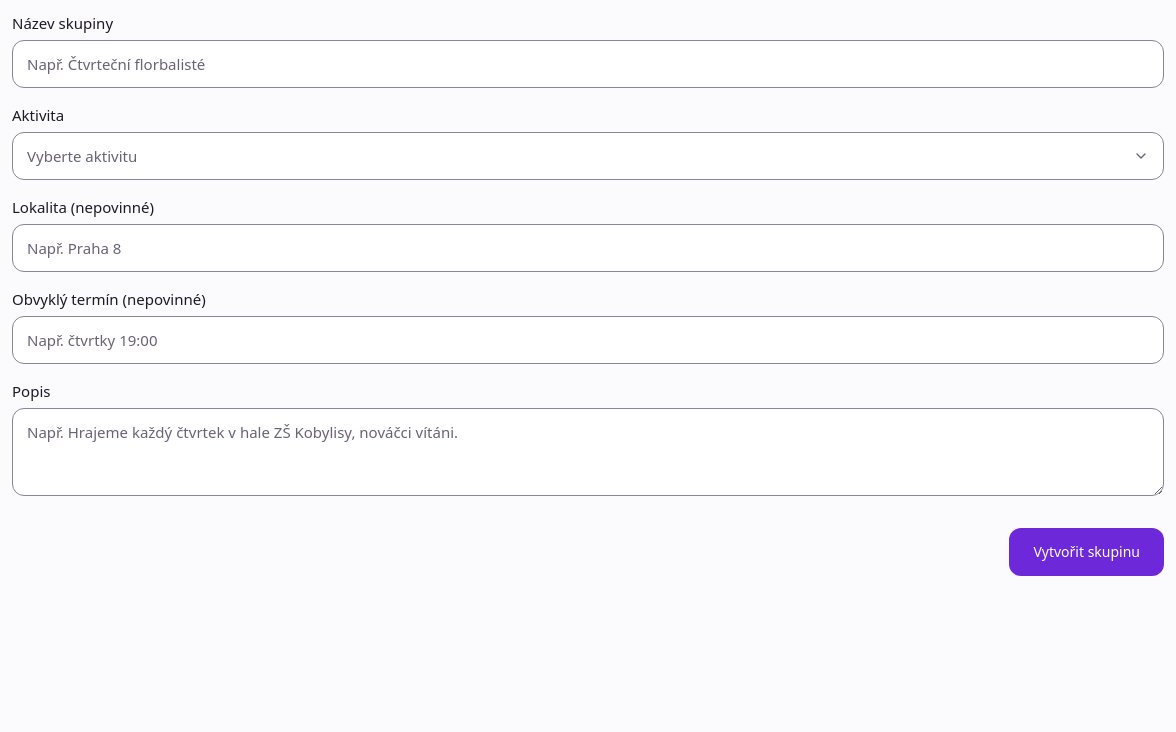
Test: GroupForm › tells which required fields are missing
Click the button "Vytvořit skupinu" at (1087,552), box 1009,528 -> 1164,576
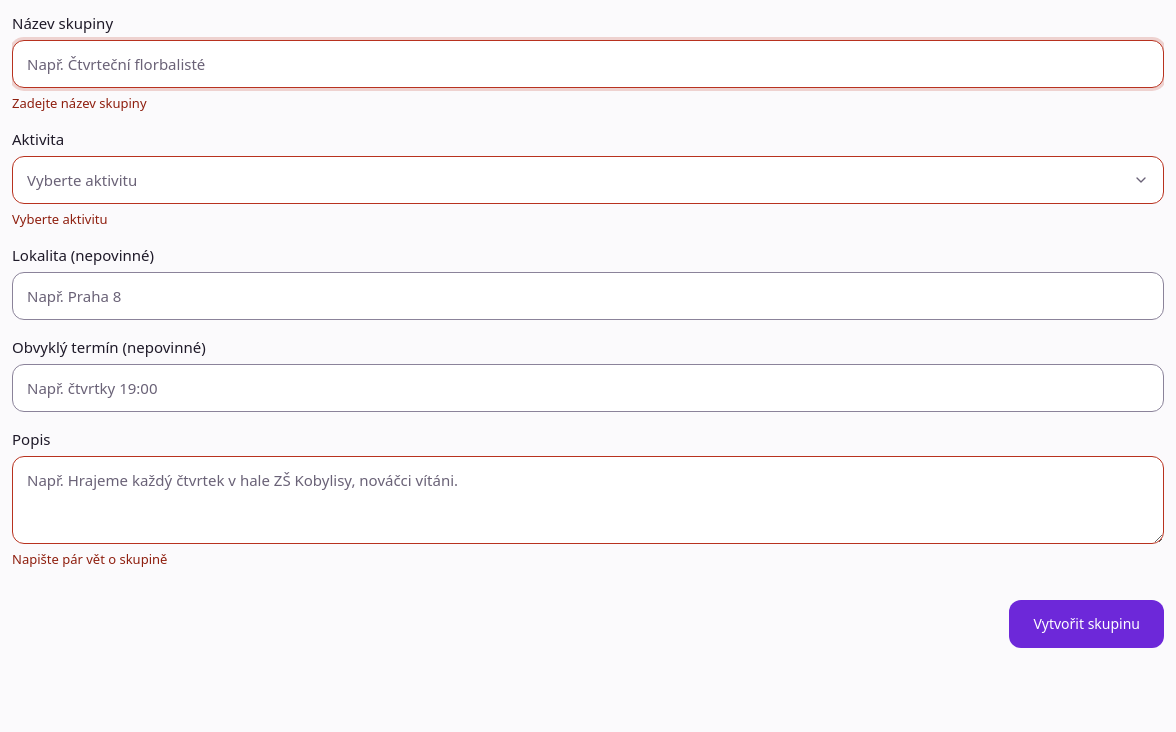
Now the text "Zadejte název skupiny" is shown, box 12,94 -> 146,112
Now the 2nd text "Vyberte aktivitu" is shown, box 12,210 -> 108,228
Now the text "Napište pár vět o skupině" is shown, box 12,550 -> 167,568
